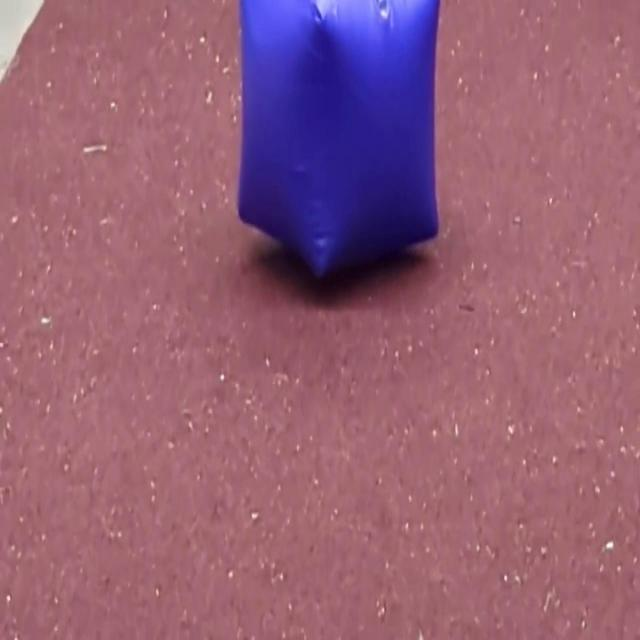frc_cube: (235, 0, 442, 291)
